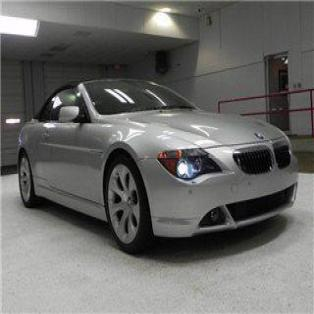Auto: (13, 74, 302, 262)
